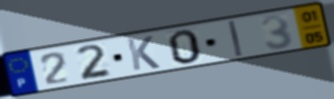0: (166, 28, 204, 65)
2: (77, 43, 114, 83), (39, 51, 71, 86)
3: (259, 13, 294, 51)
I: (226, 19, 245, 58)
K: (124, 34, 163, 72)
